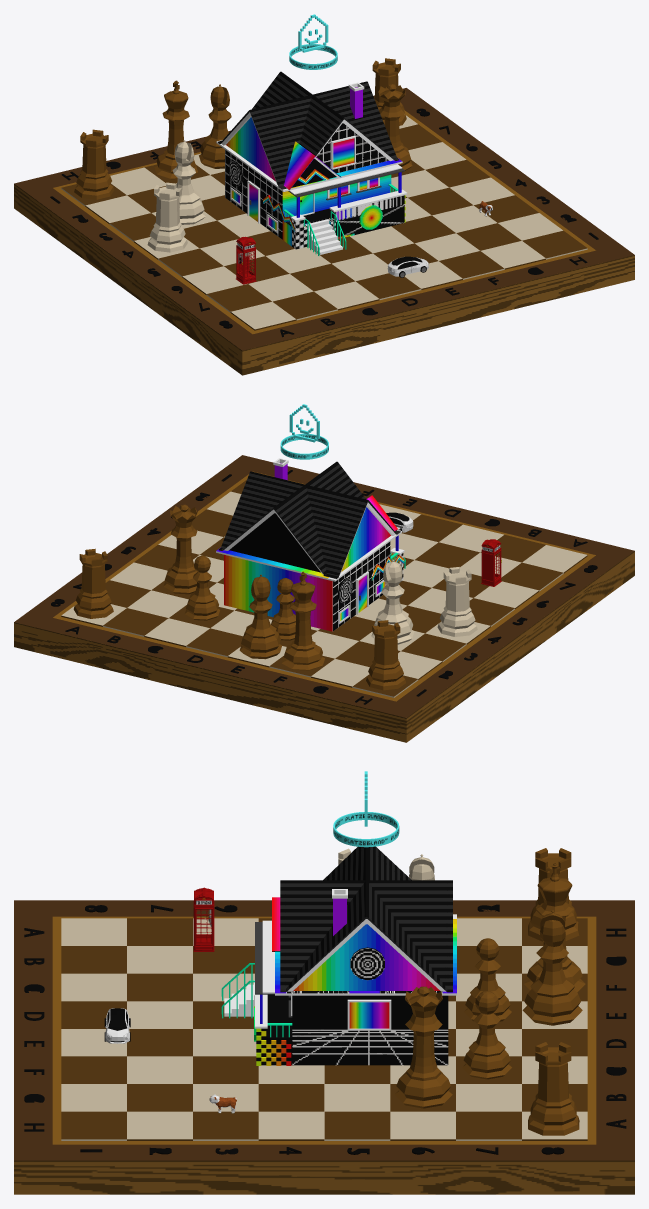
The picture shows the model from 3 angles, top to bottom: view 1: azimuth 30°, elevation 25°; view 2: azimuth 150°, elevation 25°; view 3: azimuth 270°, elevation 25°; orthographic projection. The views are drawn at different scales.
Visible parts, largest first — view 1: Cube.002, Cube.1320, TYPE_PREMIUM, OBJRANDOM_PHONEBOOTH, VEHICLES_TESLA; view 2: Cube.002, Cube.1320, TYPE_PREMIUM, OBJRANDOM_PHONEBOOTH; view 3: Cube.002, Cube.1320, TYPE_PREMIUM, OBJRANDOM_PHONEBOOTH, VEHICLES_TESLA.
Boxes of the visible parts, x1,y1,x2,y2 form: Cube.002: [14, 58, 634, 375]; Cube.1320: [216, 71, 407, 255]; TYPE_PREMIUM: [289, 14, 337, 69]; OBJRANDOM_PHONEBOOTH: [236, 236, 256, 284]; VEHICLES_TESLA: [387, 256, 428, 277]; Cube.002: [14, 455, 634, 742]; Cube.1320: [216, 458, 405, 631]; TYPE_PREMIUM: [280, 404, 328, 459]; OBJRANDOM_PHONEBOOTH: [481, 539, 501, 586]; Cube.002: [14, 848, 634, 1194]; Cube.1320: [221, 846, 456, 1065]; TYPE_PREMIUM: [333, 771, 399, 847]; OBJRANDOM_PHONEBOOTH: [193, 887, 214, 951]; VEHICLES_TESLA: [104, 1008, 130, 1043].
Size of the model in its own units: 3981 by 2177 by 4012.
42 materials, 5 textured.
